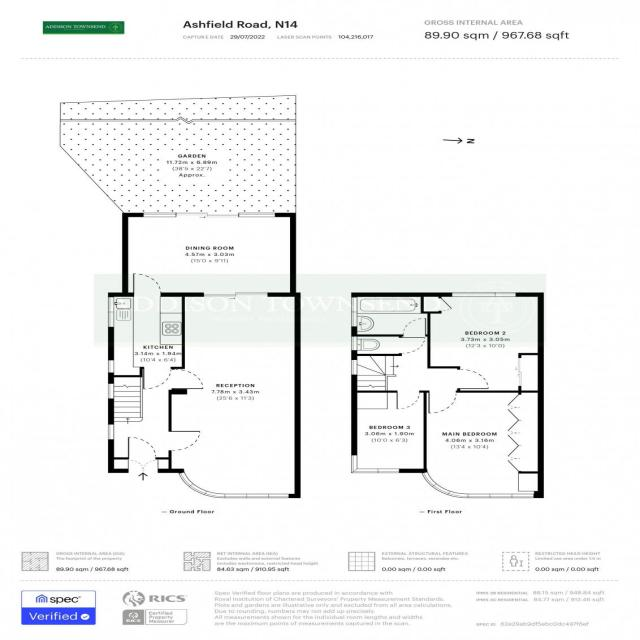DOOR: (458, 367, 495, 391), (427, 390, 460, 415), (168, 369, 205, 390), (142, 366, 173, 391), (127, 436, 158, 461), (167, 430, 202, 452), (132, 273, 162, 298), (393, 390, 423, 412), (401, 316, 428, 338)
ROOM: (168, 292, 301, 499), (424, 390, 544, 498), (420, 292, 544, 392), (107, 272, 185, 391), (352, 390, 425, 474)
WINDOW: (418, 470, 536, 502), (349, 453, 402, 475), (451, 290, 519, 298), (349, 296, 360, 327), (188, 483, 208, 496), (178, 472, 194, 487), (238, 212, 277, 218), (143, 212, 177, 218), (204, 490, 226, 499), (349, 358, 360, 376), (350, 333, 360, 351), (107, 383, 115, 399), (107, 424, 115, 440), (107, 297, 115, 312), (224, 493, 248, 498), (246, 493, 270, 498), (107, 312, 114, 327), (268, 493, 289, 498), (107, 360, 115, 373)
